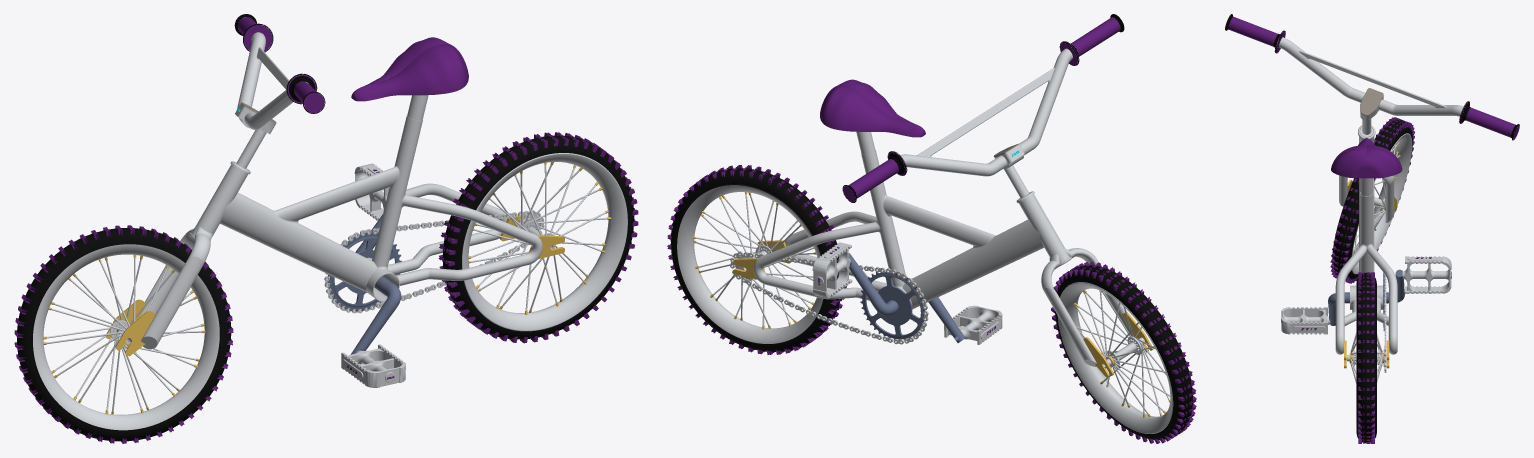
The model's file is bike.glb.
3 views of the same model, side by side, from view 1: azimuth 30°, elevation 25°; view 2: azimuth 150°, elevation 25°; view 3: azimuth 270°, elevation 25° (orthographic). The views are drawn at different scales.
Visible parts, largest first — view 1: NAUO3, NAUO4, NAUO2, NAUO1, NAUO9, NAUO5, NAUO6, NAUO8, NAUO7; view 2: NAUO4, NAUO2, NAUO3, NAUO1, NAUO9, NAUO5, NAUO8, NAUO7, NAUO6; view 3: NAUO1, NAUO2, NAUO3, NAUO4, NAUO9, NAUO7, NAUO6, NAUO5.
Part boxes in pixels (box(x1,y1,x2,y2)): NAUO3: box(14, 225, 233, 443); NAUO4: box(438, 132, 638, 343); NAUO2: box(189, 115, 564, 301); NAUO1: box(106, 14, 325, 356); NAUO9: box(351, 37, 468, 120); NAUO5: box(327, 214, 401, 354); NAUO6: box(341, 344, 405, 387); NAUO8: box(324, 210, 544, 313); NAUO7: box(354, 163, 389, 220); NAUO4: box(667, 165, 846, 354); NAUO2: box(733, 150, 1071, 309); NAUO3: box(1051, 261, 1196, 443); NAUO1: box(842, 14, 1153, 377); NAUO9: box(820, 79, 925, 154); NAUO5: box(848, 253, 964, 342); NAUO8: box(730, 251, 928, 344); NAUO7: box(812, 242, 852, 298); NAUO6: box(944, 305, 1002, 344); NAUO1: box(1225, 14, 1519, 222); NAUO2: box(1335, 125, 1397, 368); NAUO3: box(1330, 117, 1414, 283); NAUO4: box(1347, 272, 1386, 443); NAUO9: box(1331, 138, 1402, 196); NAUO7: box(1402, 256, 1451, 293); NAUO6: box(1281, 307, 1330, 334); NAUO5: box(1328, 269, 1404, 331).
Bounding box in the file's own units: 1.22 × 0.7521 × 0.6658.
